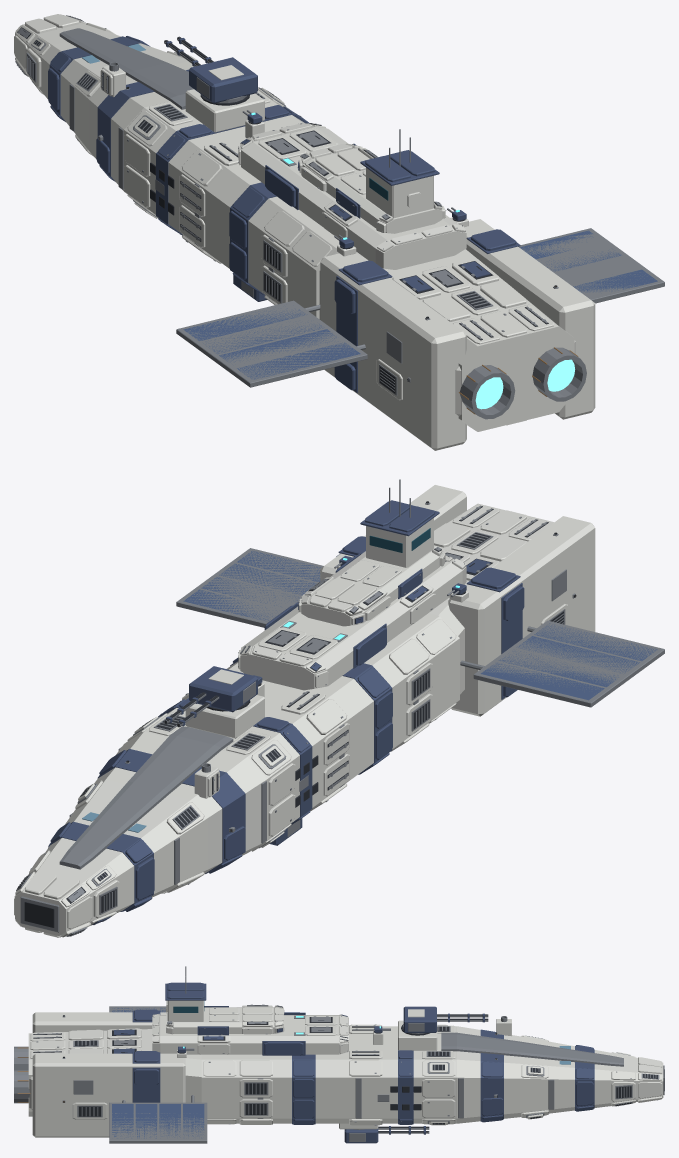
Rendered from earth_gun_cruiser_t5.glb.
The picture shows the model from 3 angles, top to bottom: view 1: azimuth 30°, elevation 25°; view 2: azimuth 150°, elevation 25°; view 3: azimuth 270°, elevation 25°; orthographic projection. The views are drawn at different scales.
Visible parts, largest first — view 1: FleetHull, mesh_turret_gun_1; view 2: FleetHull, mesh_turret_gun_1; view 3: FleetHull, mesh_turret_gun_1, mesh_turret_gun_2, mesh_recoil_gun_1, mesh_recoil_gun_2.
Part boxes in pixels (x1,y1,x2,y2): FleetHull: [14, 14, 664, 450]; mesh_turret_gun_1: [189, 57, 257, 103]; FleetHull: [14, 479, 664, 937]; mesh_turret_gun_1: [189, 666, 257, 712]; FleetHull: [14, 966, 664, 1143]; mesh_turret_gun_1: [403, 1006, 436, 1033]; mesh_turret_gun_2: [344, 1128, 378, 1143]; mesh_recoil_gun_1: [437, 1013, 488, 1022]; mesh_recoil_gun_2: [378, 1126, 429, 1134].
Bounding box in the file's own units: 162 × 95.7 × 331.
